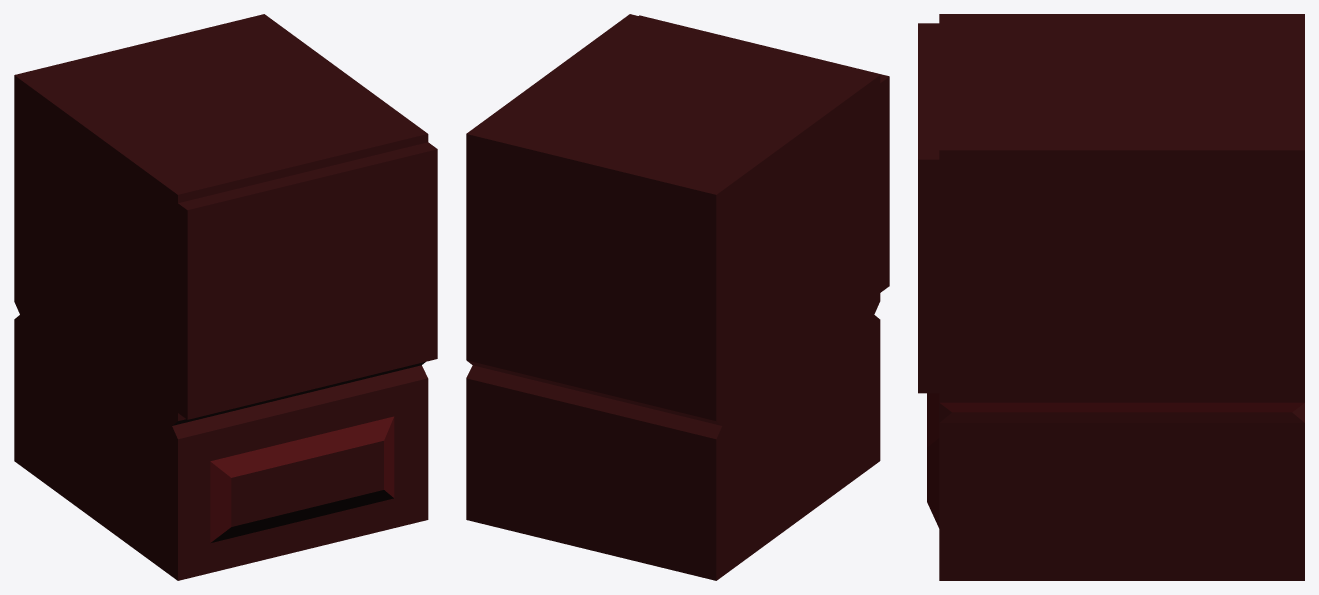
The model's file is Slab_Var3_Single.FBX.
The picture shows the model from 3 angles, left to right: view 1: azimuth 30°, elevation 25°; view 2: azimuth 150°, elevation 25°; view 3: azimuth 270°, elevation 25°; orthographic projection. The views are drawn at different scales.
Parts seen in each view (by area): view 1: Object003; view 2: Object003; view 3: Object003.
Boxes of the visible parts, x1,y1,x2,y2 form: Object003: (14,14,437,580); Object003: (466,14,889,580); Object003: (918,14,1304,580).
Size of the model in its own units: 86.91 by 128 by 104.
